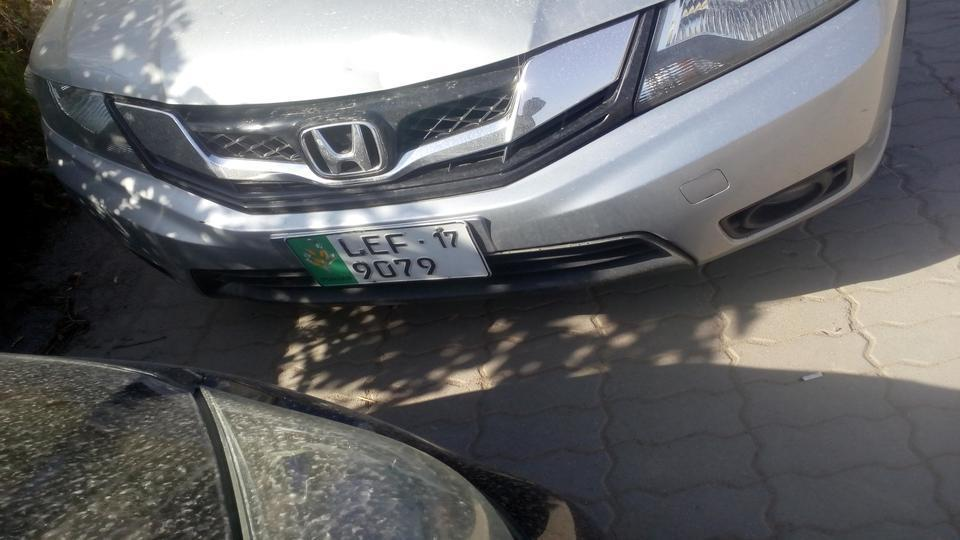NumberPlate: (288, 235, 488, 297)
